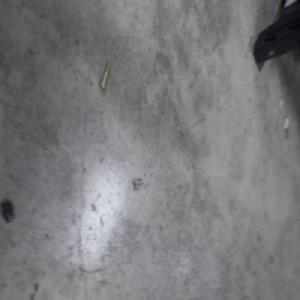Bolt: (97, 61, 111, 94)
